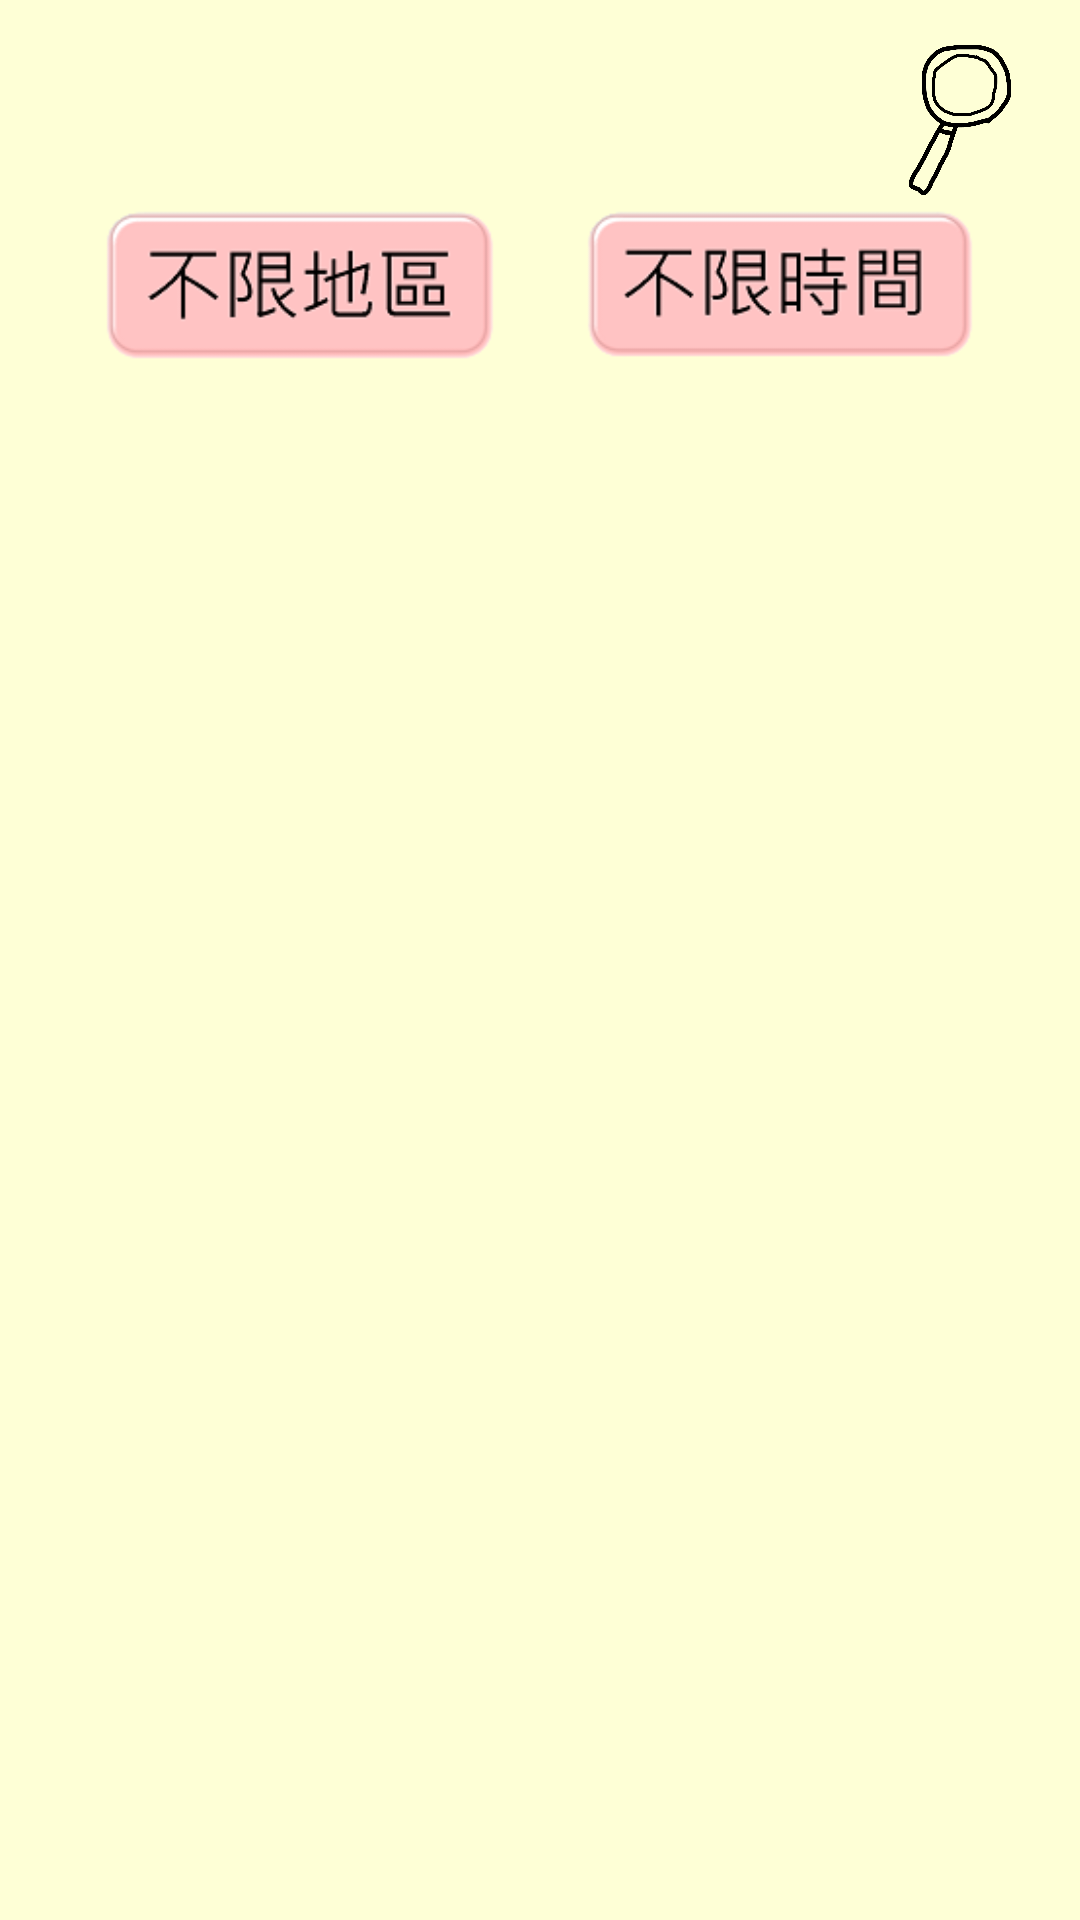

Named icons in this screenshot (1080*1920) and their centers, (x=x, y=y):
query: (x=960, y=120)
